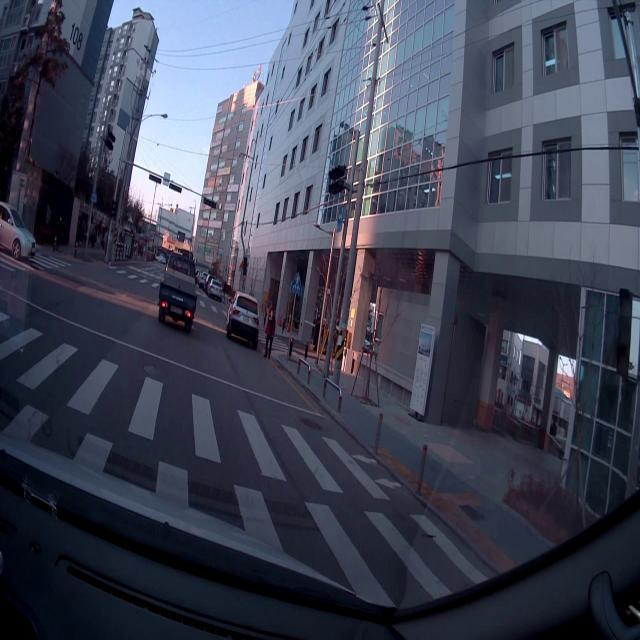crosswalk: (1, 308, 520, 610), (103, 261, 235, 323), (1, 245, 75, 275), (259, 329, 294, 352)
